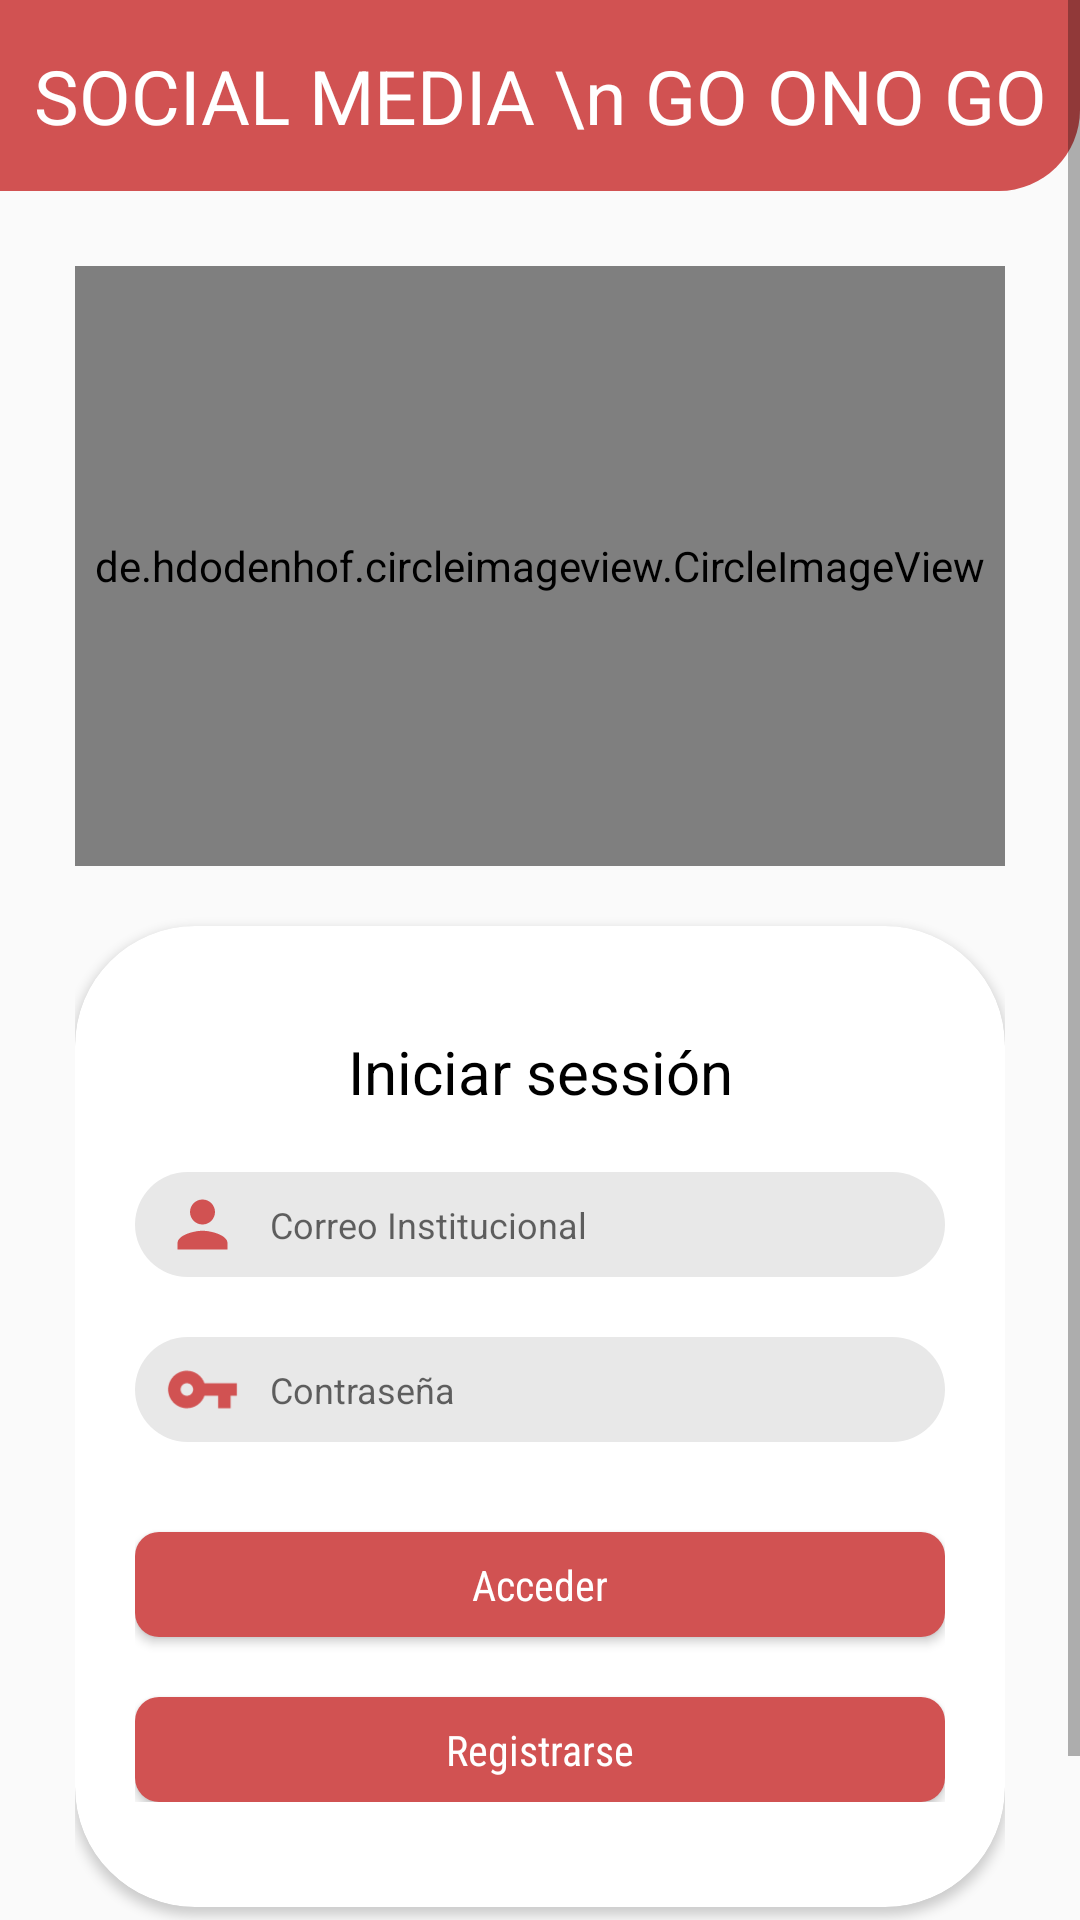

Where to tap for icons on this 1080 × 1920 app screen, as (x=x, y=y):
password: (x=202, y=1389)
person: (x=202, y=1224)
